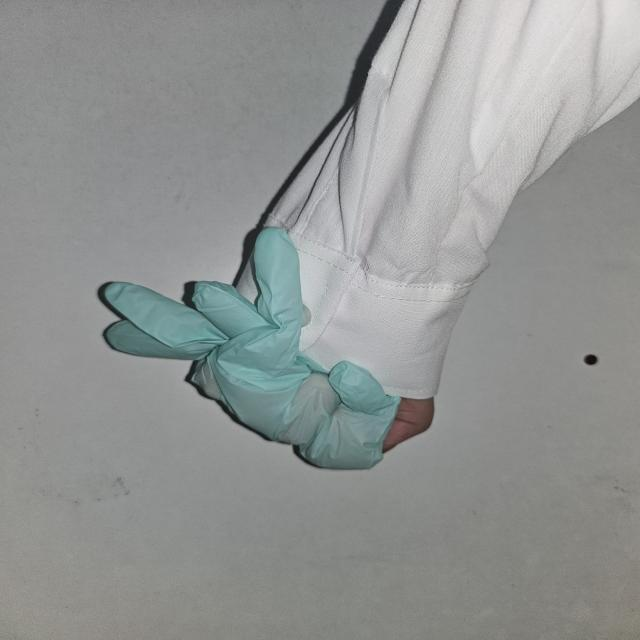glove_partial: (100, 225, 438, 471)
